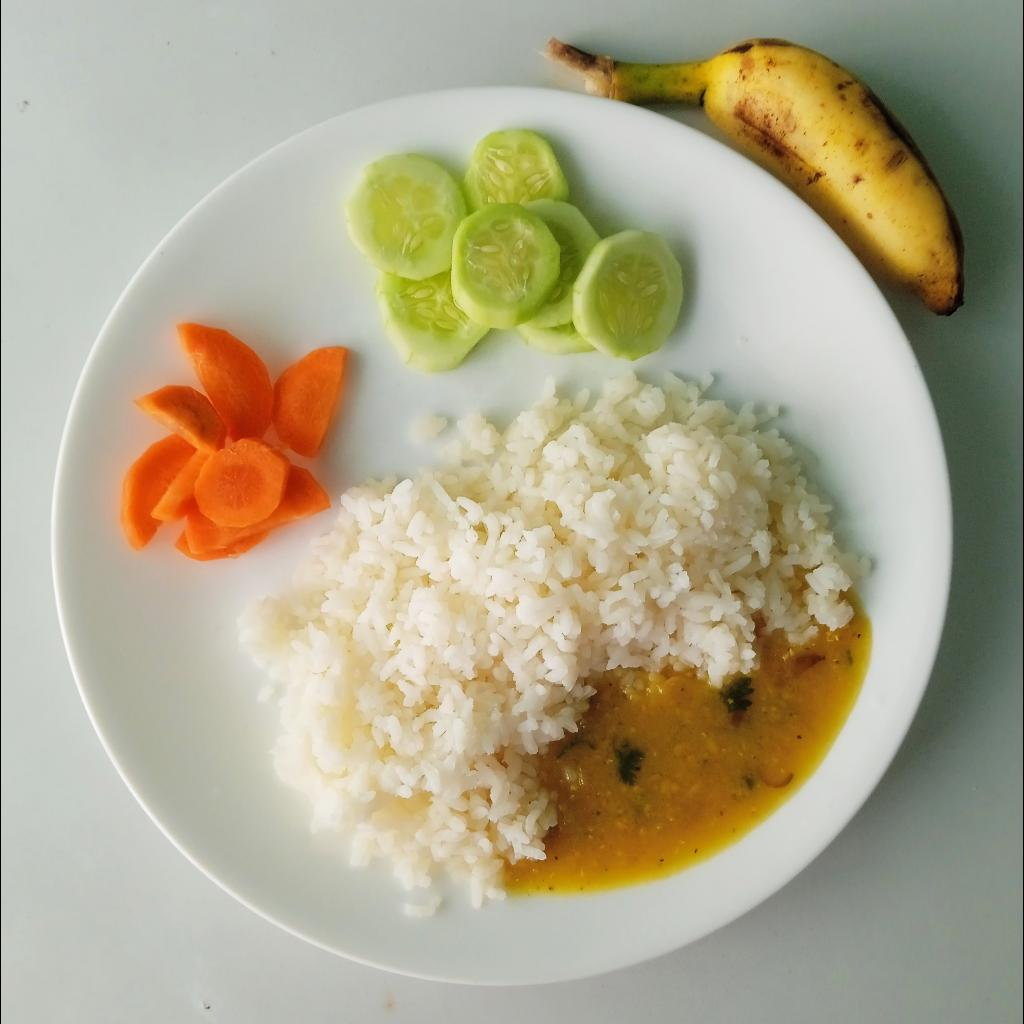banana: (614, 37, 970, 318)
carrot: (118, 324, 348, 562)
cucumber: (344, 124, 685, 372)
daal: (503, 595, 875, 897)
rice: (240, 370, 874, 918)
